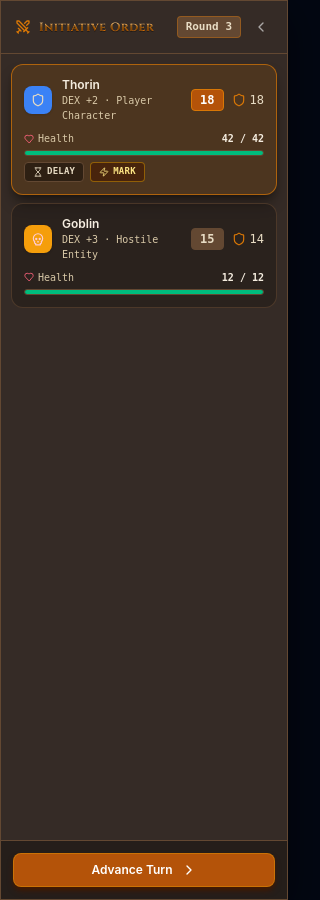
Scenario: Delay / Resume control gating › surfaces an engine rejection code verbatim instead of faking success
Click the button with test id "delay-action-thorin_1": [54, 172] box [24,162,84,182]
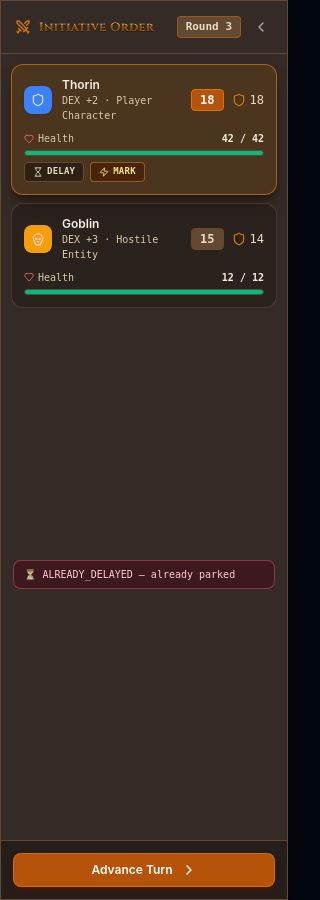
Expected: the message with test id "delay-error" shows "ALREADY_DELAYED", [42,569,235,580]
